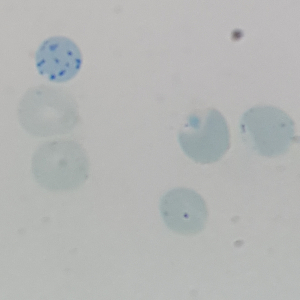aggregate reticulocyte: (33, 35, 85, 86)
erythrocyte: (28, 138, 92, 194), (176, 106, 232, 166), (157, 187, 209, 239)
punctate reticulocyte: (14, 85, 81, 139), (237, 104, 300, 159)
